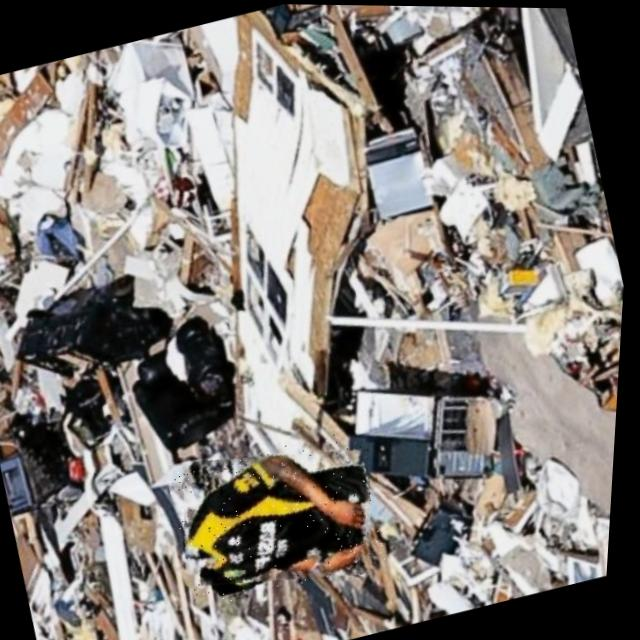Person in Rubble: (168, 422, 400, 609)
